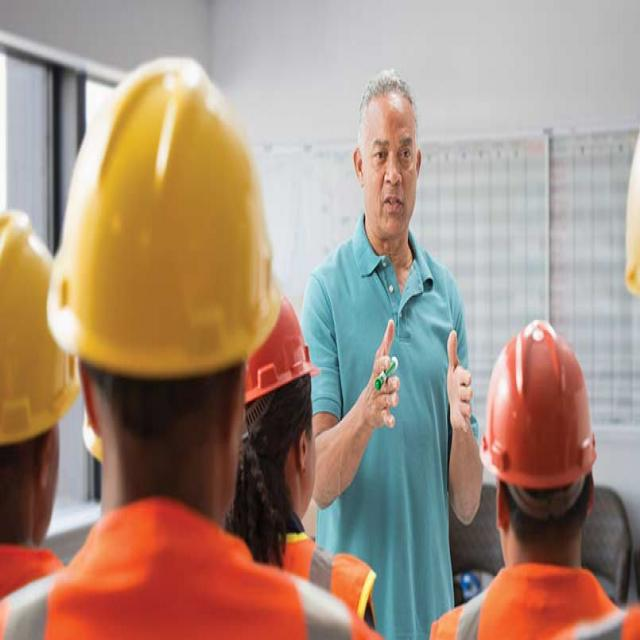Reflective-Jacket: (3, 482, 384, 640), (430, 549, 634, 640)
Safety-Helmet: (48, 51, 283, 388), (479, 310, 601, 495), (0, 201, 80, 452), (243, 287, 321, 428), (616, 75, 640, 308)
